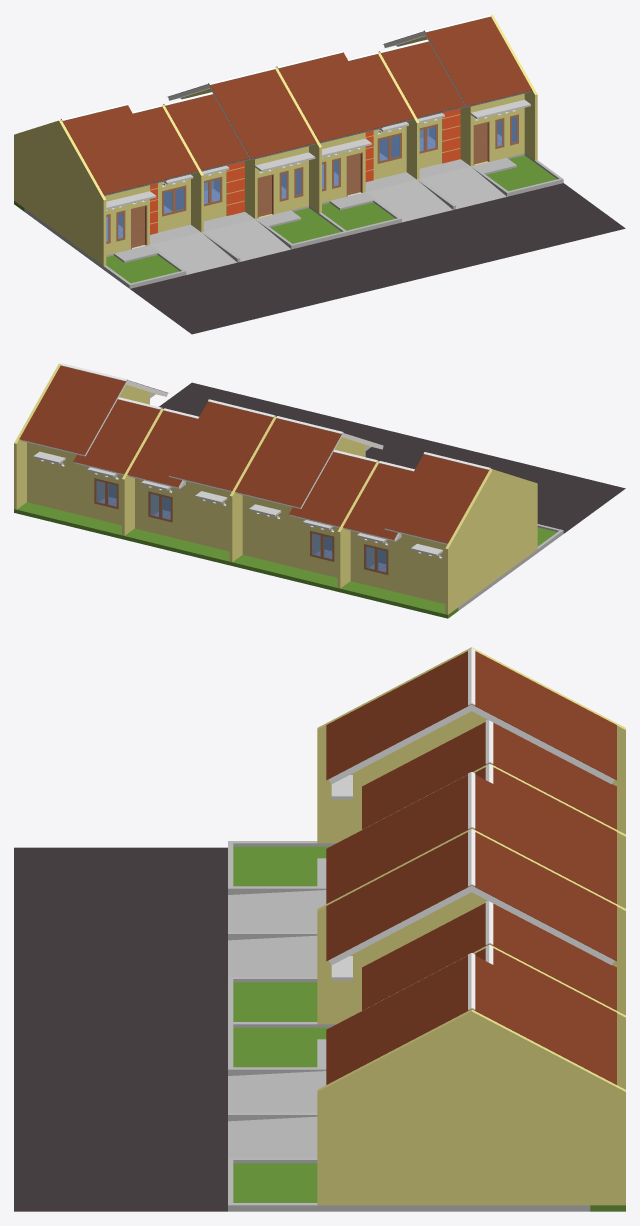
Rendered from coba_ekspor_ke_unity_terbaru.fbx.
3 renders of one model, top to bottom at view 1: azimuth 30°, elevation 25°; view 2: azimuth 150°, elevation 25°; view 3: azimuth 270°, elevation 25°, orthographic. The views are drawn at different scales.
Parts seen in each view (by area): view 1: Group1, Group52, Group29, Group129, Group79, Group179, Group102, Group2, Group134, Group34, Group152, Group84 (+25 smaller); view 2: Group52, Group1, Group2, Group102, Group29, Group129, Group179, Group79, Group152, Group134, Group34, Group84 (+8 smaller); view 3: Group1, Group102, Group79, Group179, Group129, Group29, Group184, Group84, Group52, Group152, Group2, Group20 (+16 smaller).
Part boxes in pixels (x1,y1,x2,y2): Group1: (130, 183, 625, 334); Group52: (14, 120, 203, 265); Group29: (167, 69, 316, 158); Group129: (383, 17, 531, 106); Group79: (61, 105, 169, 194); Group179: (278, 52, 384, 142); Group102: (377, 14, 537, 179); Group2: (162, 67, 321, 232); Group134: (381, 42, 464, 117); Group34: (165, 94, 249, 170); Group152: (282, 119, 419, 202); Group84: (133, 106, 198, 178); Group52: (337, 468, 537, 614); Group1: (159, 382, 625, 533); Group2: (229, 416, 379, 588); Group102: (14, 363, 163, 535); Group29: (235, 418, 384, 507); Group129: (19, 365, 167, 454); Group179: (167, 401, 275, 490); Group79: (382, 454, 489, 543); Group152: (122, 475, 242, 551); Group134: (73, 399, 162, 473); Group34: (289, 452, 376, 526); Group84: (343, 463, 413, 539); Group1: (14, 847, 227, 1211); Group102: (317, 944, 625, 1205); Group79: (326, 651, 616, 780); Group179: (326, 832, 616, 961); Group129: (326, 956, 616, 1084); Group29: (326, 775, 616, 903); Group184: (362, 903, 616, 1010); Group84: (362, 722, 616, 829); Group52: (317, 647, 625, 908); Group152: (317, 892, 625, 1088); Group2: (317, 763, 625, 1024); Group20: (228, 931, 317, 976).
Size of the model in its own units: 24150 by 6236 by 17150.
